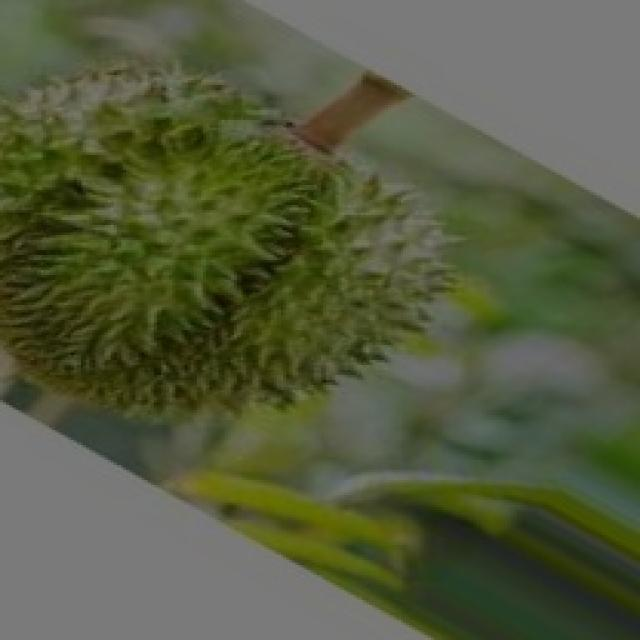fruit: (0, 77, 375, 492)
